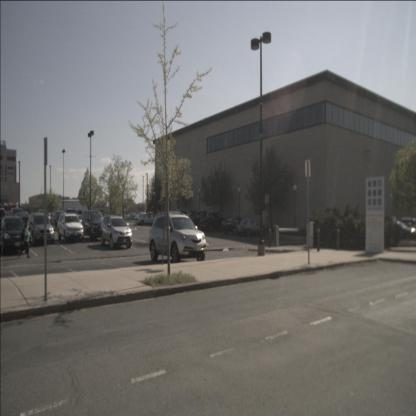human-pedestrian-adult: (18, 221, 31, 259)
vehicle-car: (148, 212, 207, 264), (0, 216, 29, 256), (100, 215, 132, 250), (27, 212, 55, 247), (57, 210, 84, 243), (81, 209, 105, 240), (385, 220, 416, 241), (221, 215, 249, 234), (199, 212, 226, 231), (236, 218, 262, 236), (188, 210, 210, 230), (14, 212, 32, 229), (50, 210, 66, 228), (136, 212, 156, 226), (8, 207, 26, 221), (0, 208, 8, 228), (134, 212, 146, 220), (126, 213, 138, 220)
